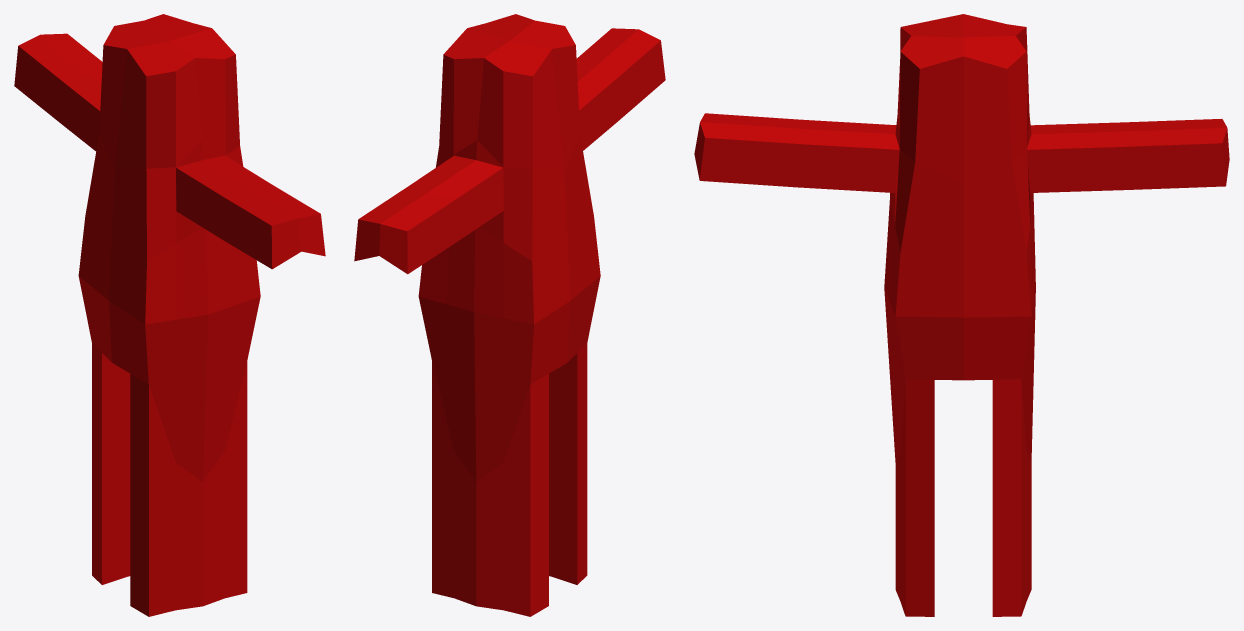
Rendered from ogr.obj.
3 views of the same model, side by side, from view 1: azimuth 30°, elevation 25°; view 2: azimuth 150°, elevation 25°; view 3: azimuth 270°, elevation 25° (orthographic). The views are drawn at different scales.
Visible parts, largest first — view 1: Cube.001; view 2: Cube.001; view 3: Cube.001.
Boxes of the visible parts, x1=… form: Cube.001: x1=14, y1=14, x2=325, y2=616; Cube.001: x1=354, y1=14, x2=665, y2=616; Cube.001: x1=694, y1=14, x2=1229, y2=616.
Size of the model in its own units: 72.35 by 313 by 273.
